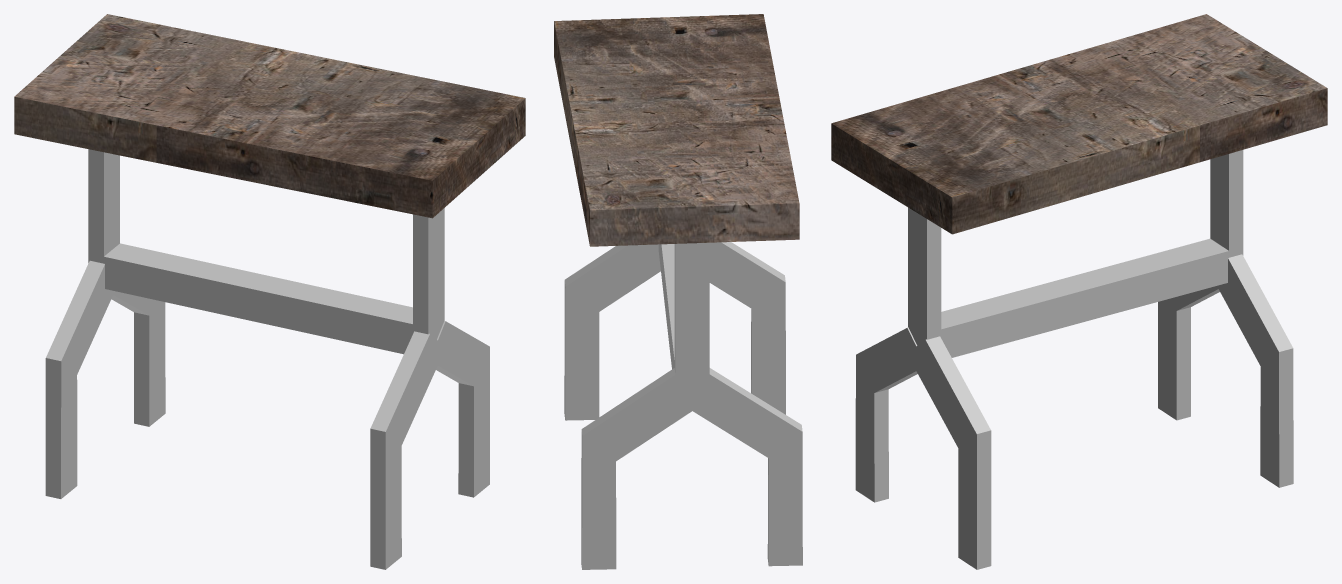
The model's file is Potion_Table.fbx.
3 renders of one model, left to right at view 1: azimuth 30°, elevation 25°; view 2: azimuth 150°, elevation 25°; view 3: azimuth 270°, elevation 25°, orthographic. The views are drawn at different scales.
Visible parts, largest first — view 1: pasted__Stick_6; view 2: pasted__Stick_6; view 3: pasted__Stick_6.
Part boxes in pixels (bbox=[...]): pasted__Stick_6: bbox=[14, 14, 525, 569]; pasted__Stick_6: bbox=[554, 14, 802, 569]; pasted__Stick_6: bbox=[831, 14, 1327, 569].
Size of the model in its own units: 30.9 by 30.1 by 35.31.
